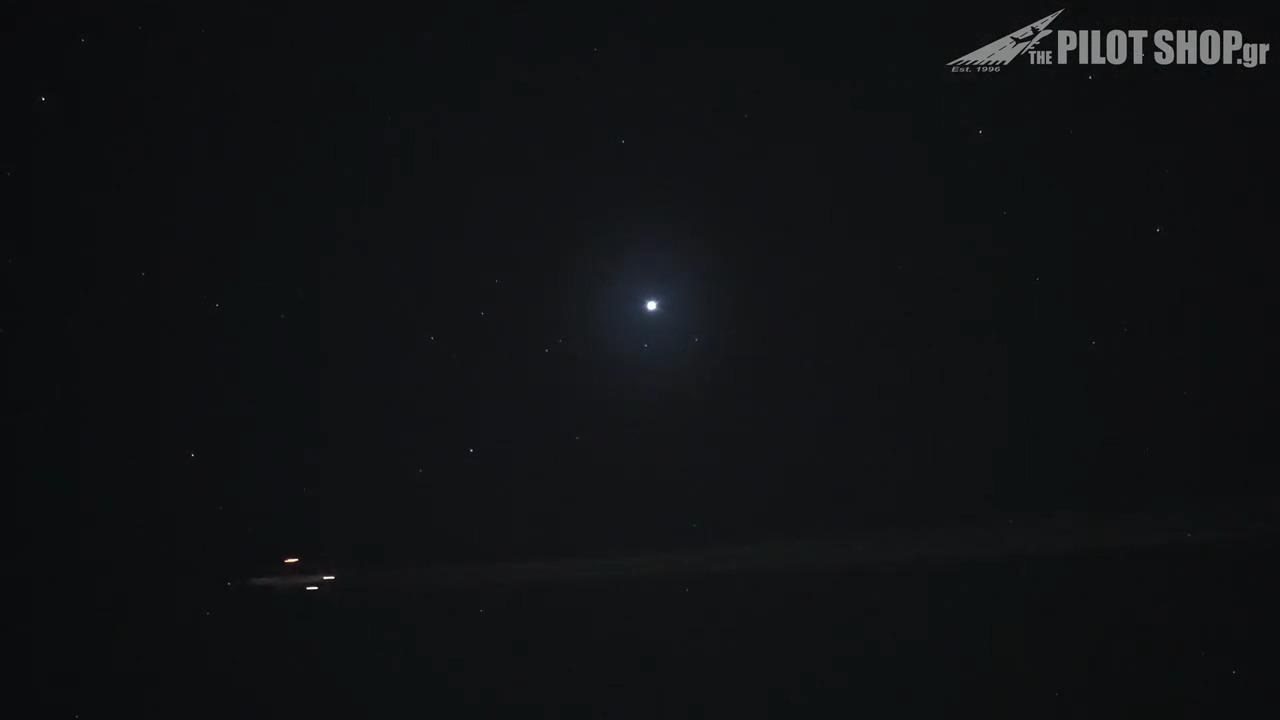Plane: (176, 542, 585, 609)
